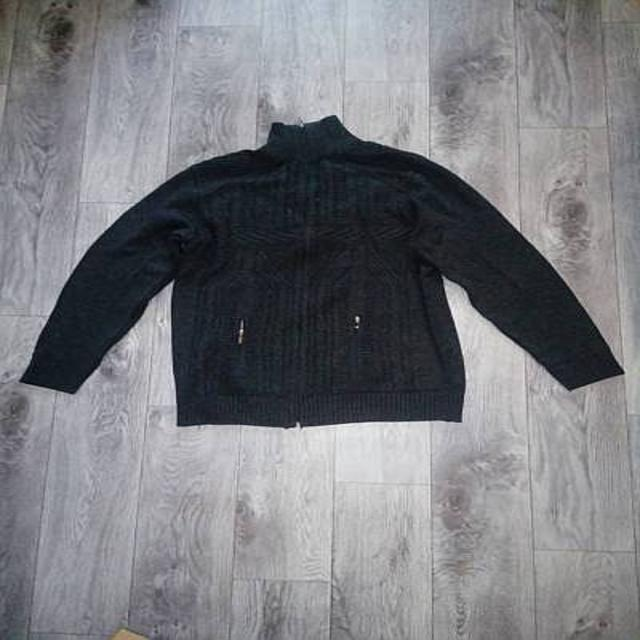SHIRT: (14, 110, 627, 441)
